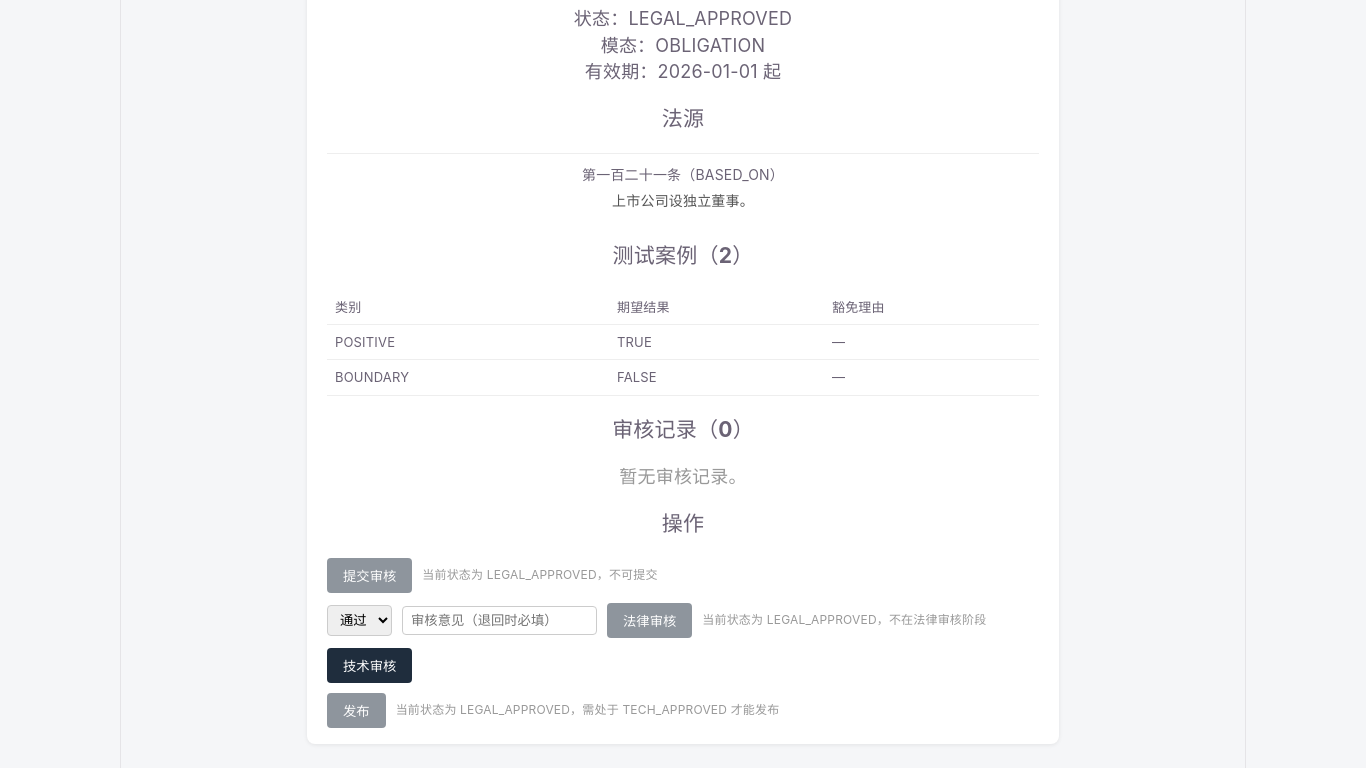
Scenario: RuleDetailView › runs the second half of the dual review: LEGAL_APPROVED allows the technical review
The width and height of the screenshot is (1366, 768).
(page scrolled)
Expected: the button "法律审核" is disabled, [607,603,692,638]
Click the button "技术审核": (370, 666) [327,648,412,683]
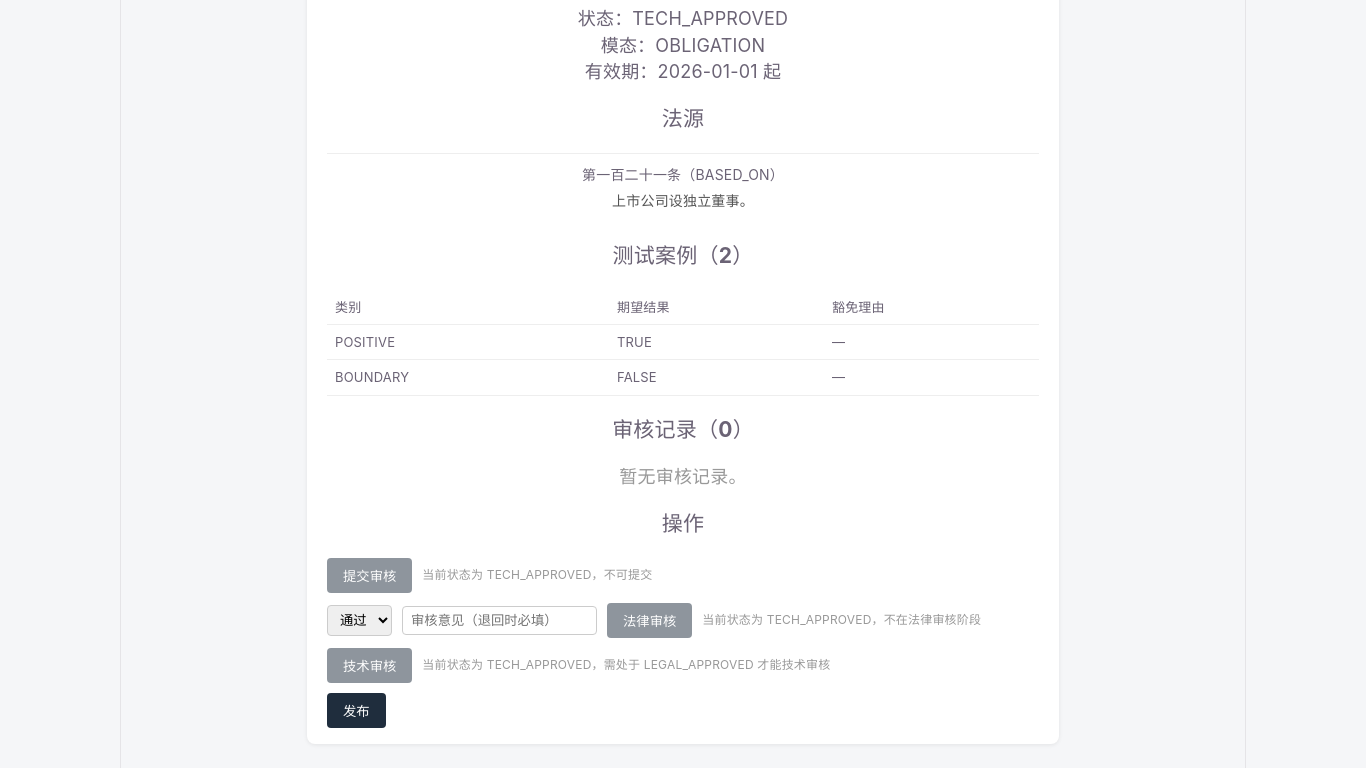
Result: the text "状态：TECH_APPROVED" is shown at [578,8,788,29]
